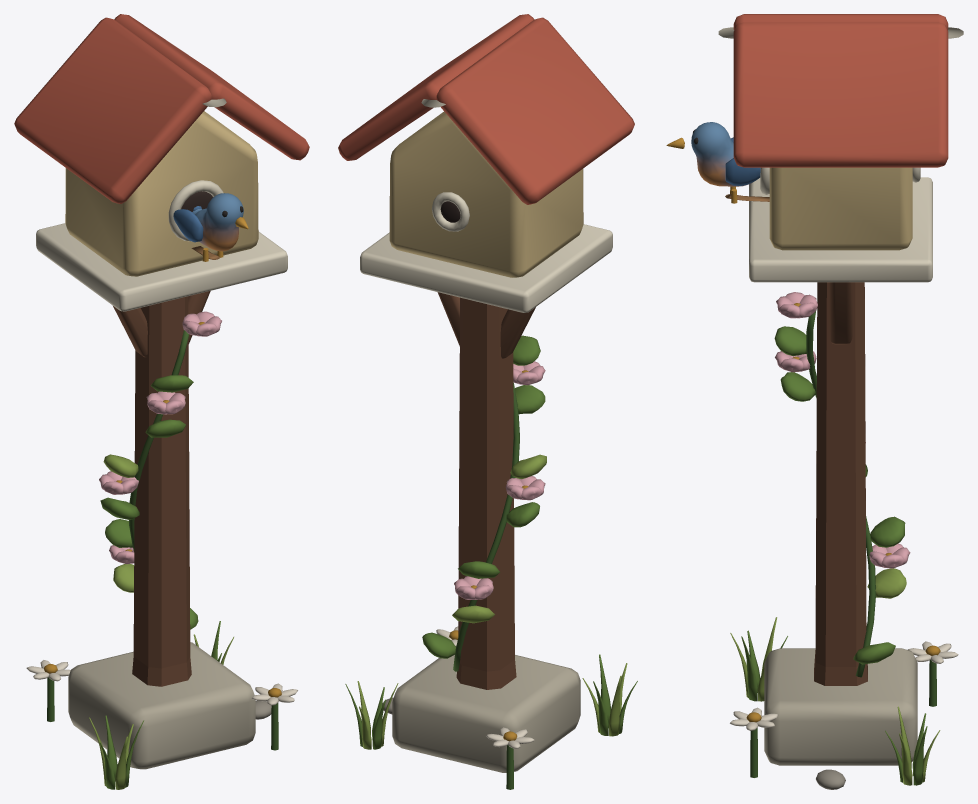
The model's file is DEC_Bird_House_A.fbx.
3 renders of one model, left to right at view 1: azimuth 30°, elevation 25°; view 2: azimuth 150°, elevation 25°; view 3: azimuth 270°, elevation 25°, orthographic. The views are drawn at different scales.
Parts seen in each view (by area): view 1: DEC_Bird_House_A_LOD0; view 2: DEC_Bird_House_A_LOD0; view 3: DEC_Bird_House_A_LOD0.
Part boxes in pixels (bbox=[...]): DEC_Bird_House_A_LOD0: bbox=[14, 14, 309, 789]; DEC_Bird_House_A_LOD0: bbox=[338, 14, 637, 789]; DEC_Bird_House_A_LOD0: bbox=[666, 14, 963, 789].
Size of what is drawn, in the model's own units: 0.5061 by 1.56 by 0.5815.
